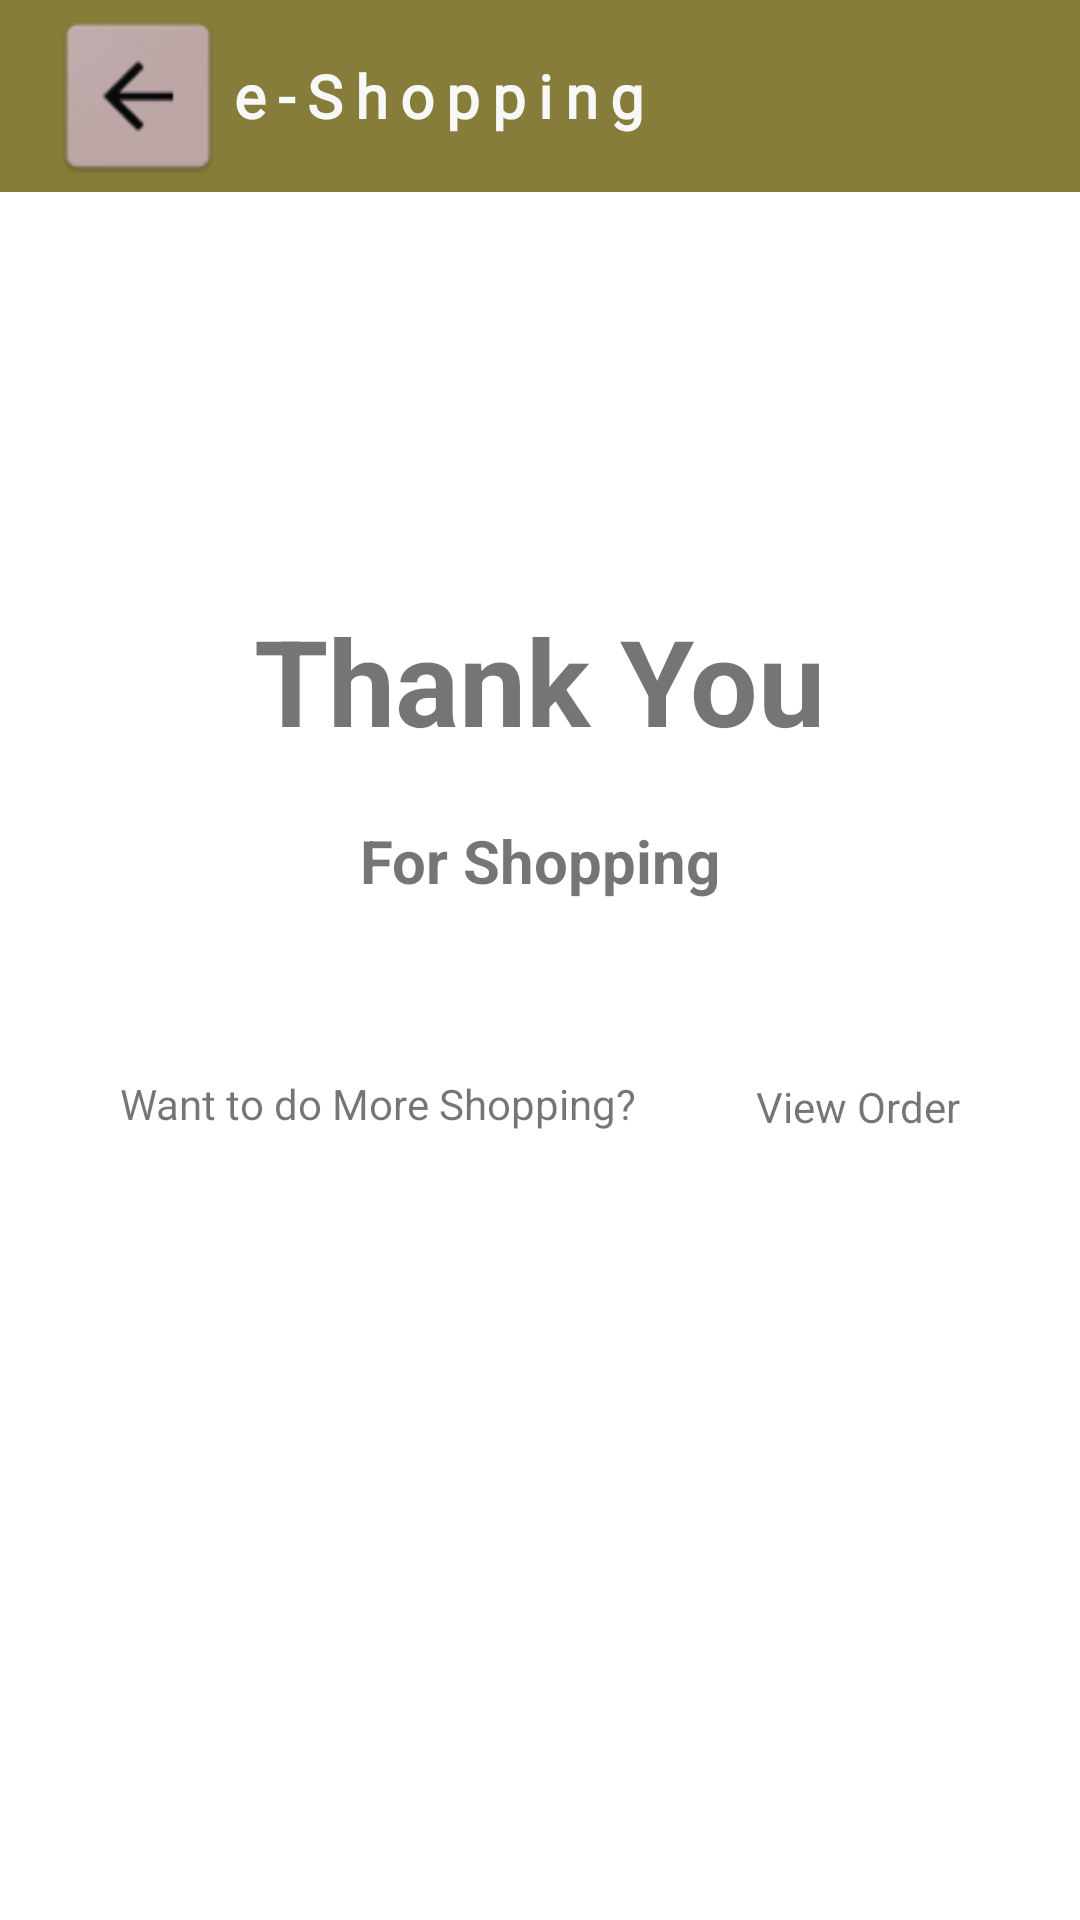

Named icons in this screenshot (1080×1920) and their centers, point (x, y):
back: point (138, 95)
